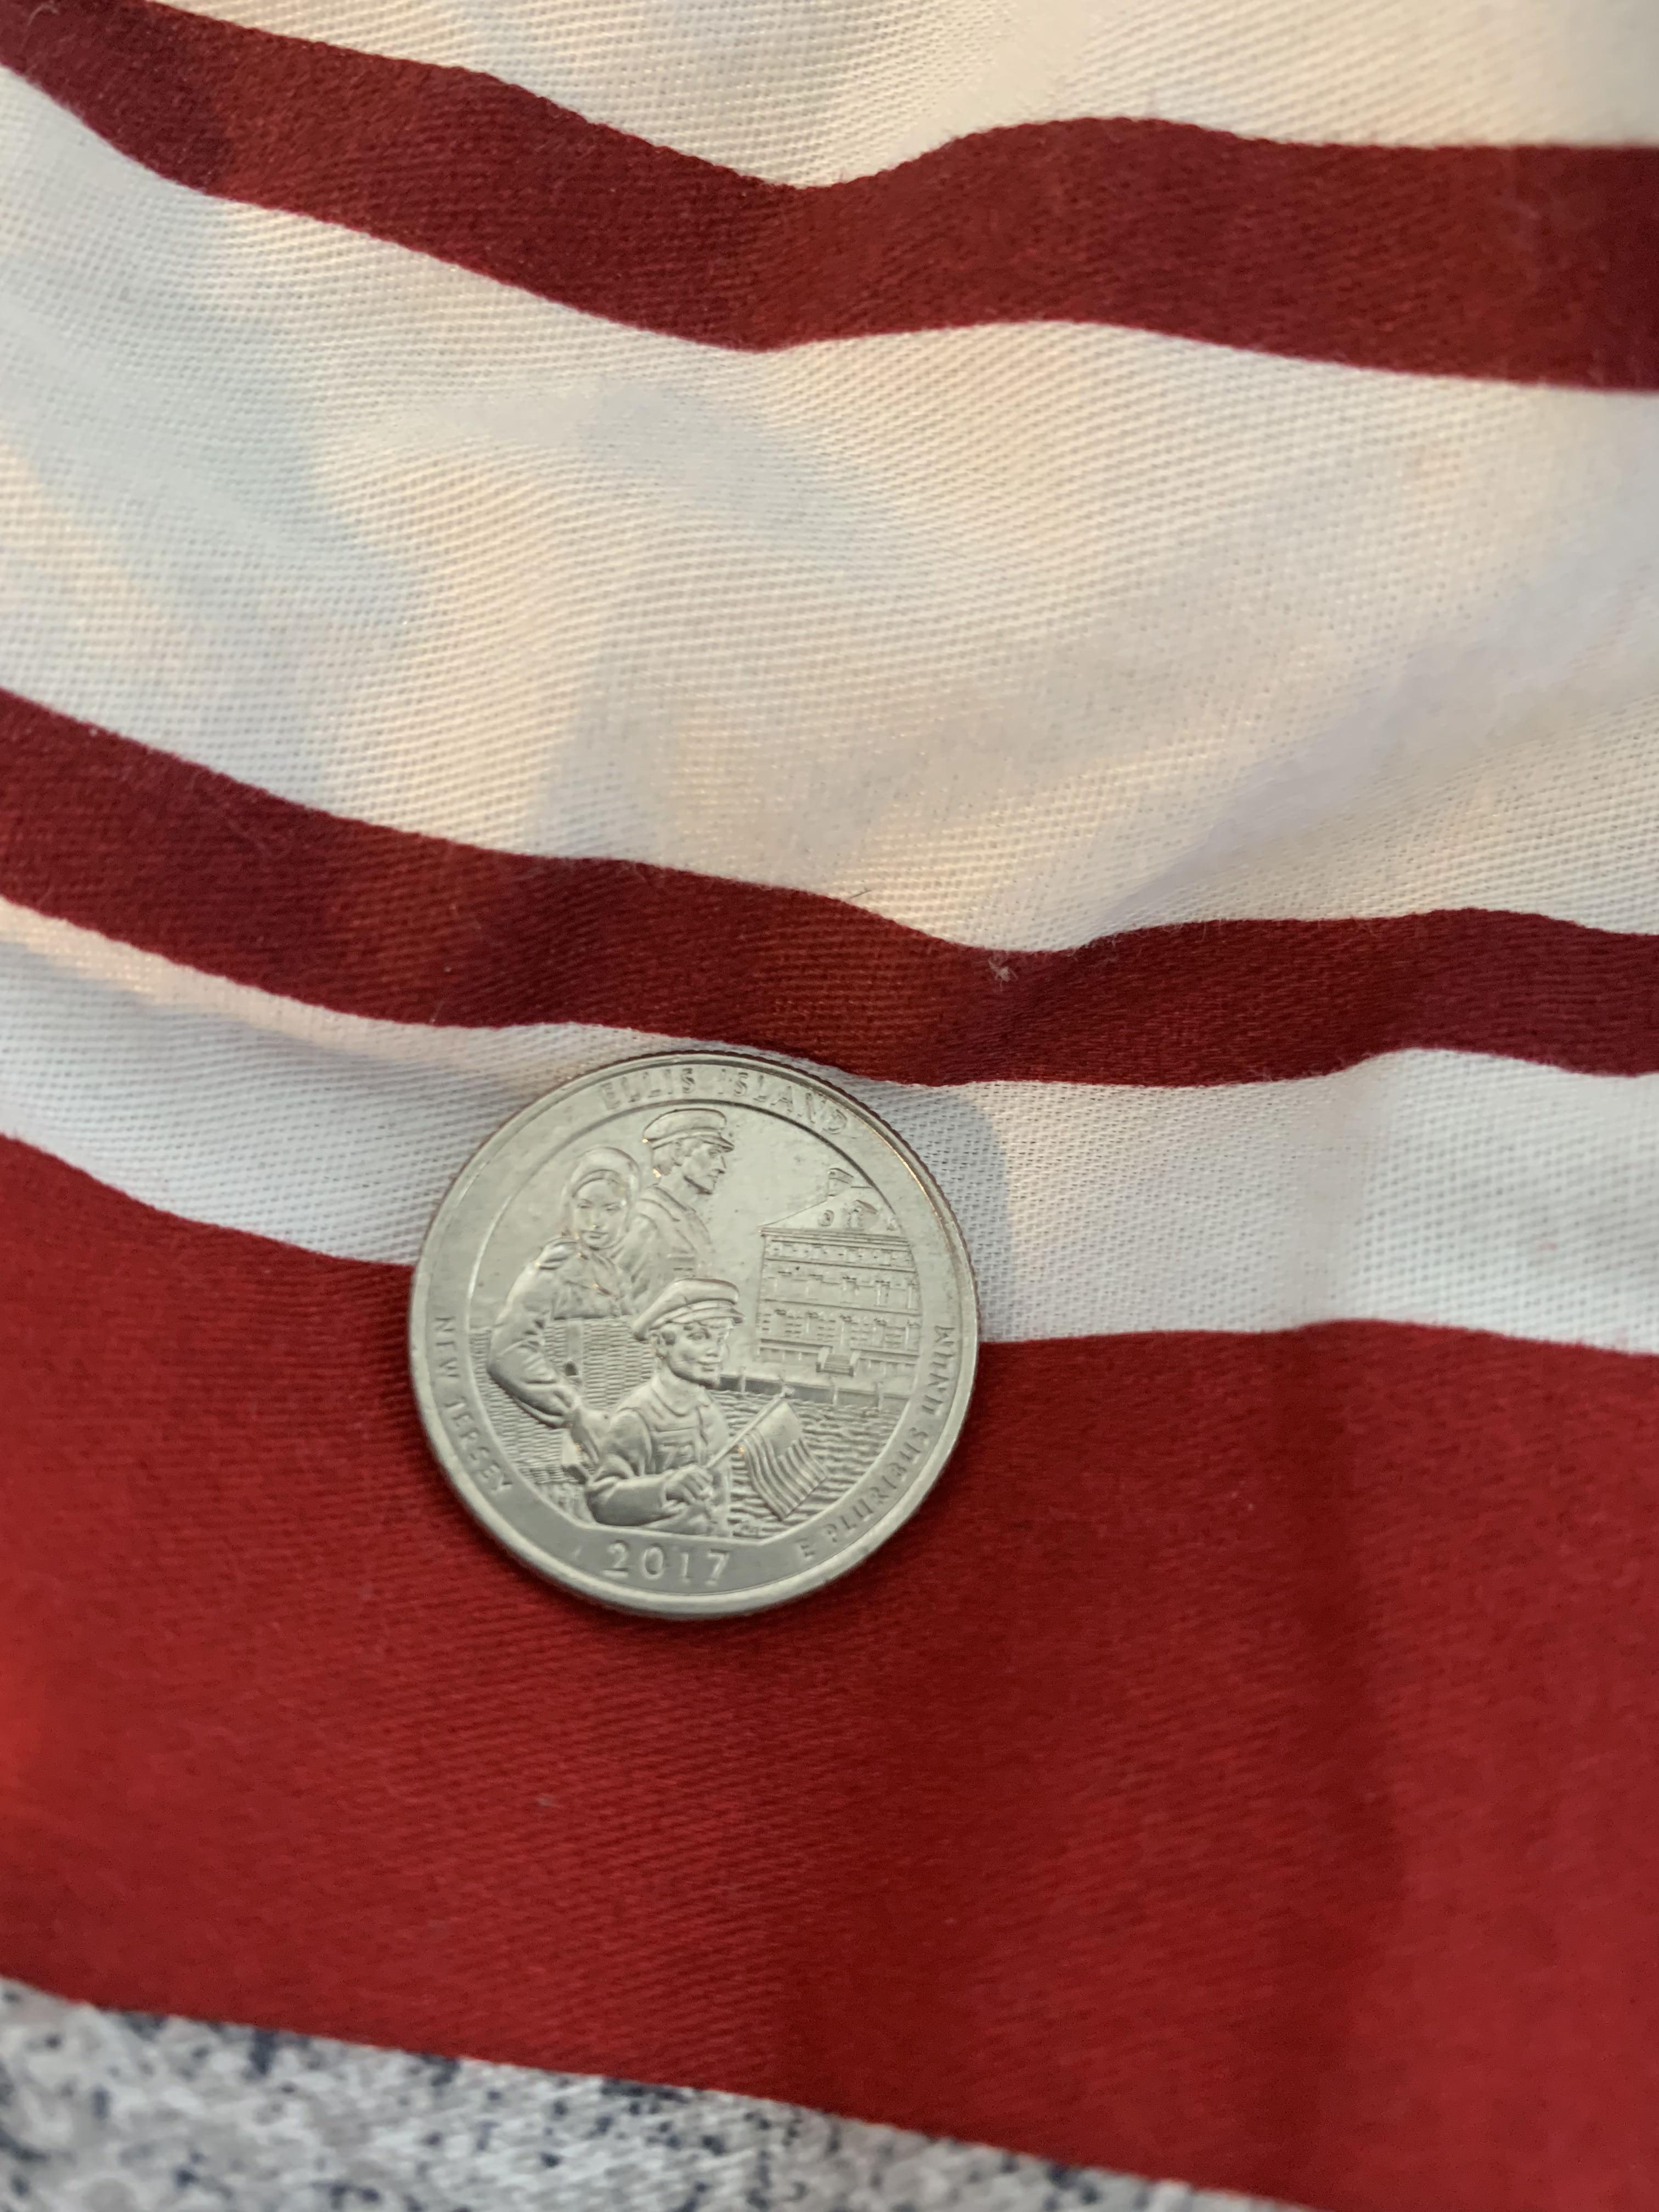Quarter: (392, 1033, 999, 1637)
